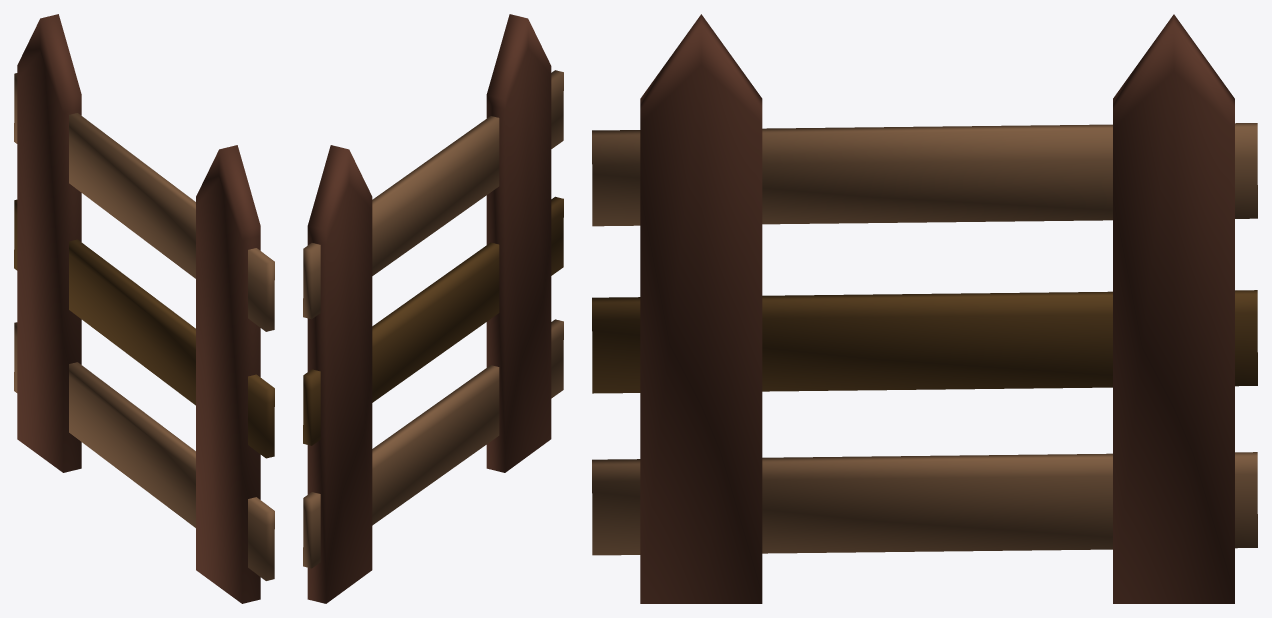
Rendered from FencePicketSmall_01.glb.
3 views of the same model, side by side, from view 1: azimuth 30°, elevation 25°; view 2: azimuth 150°, elevation 25°; view 3: azimuth 270°, elevation 25° (orthographic). The views are drawn at different scales.
Parts seen in each view (by area): view 1: FencePicketSmall_01; view 2: FencePicketSmall_01; view 3: FencePicketSmall_01.
Boxes of the visible parts, <box> form: FencePicketSmall_01: <box>14,14,274,603</box>; FencePicketSmall_01: <box>303,14,563,603</box>; FencePicketSmall_01: <box>592,14,1257,603</box>.
Size of what is drawn, in the model's own units: 0.0534 by 1.21 by 1.26.
1 material, 1 textured.
